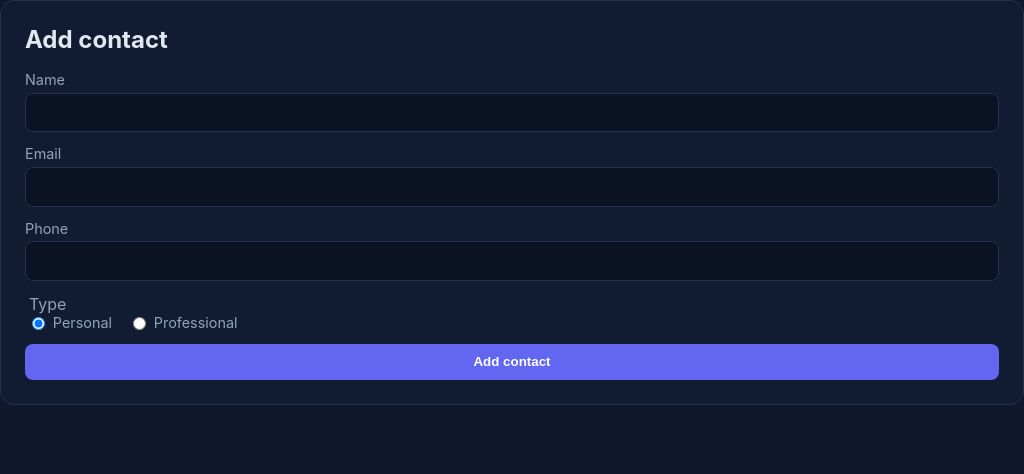
Test case: ContactForm › shows a validation error when name is empty
What coordinates should you click on to do the following:
click the button "Add contact"
I would click on:
 (512, 362)
Its box is [25,344,999,380].
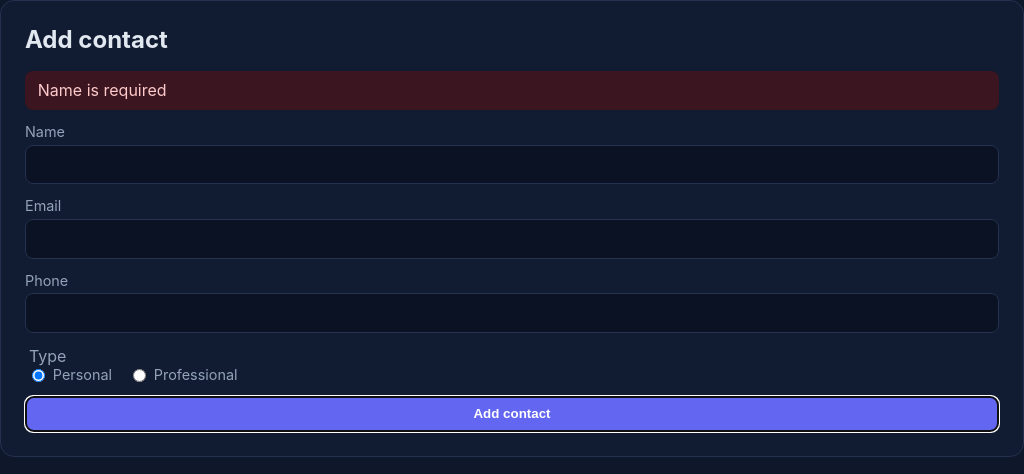
Check: the message reads "Name is required", box [38,80,167,100]
